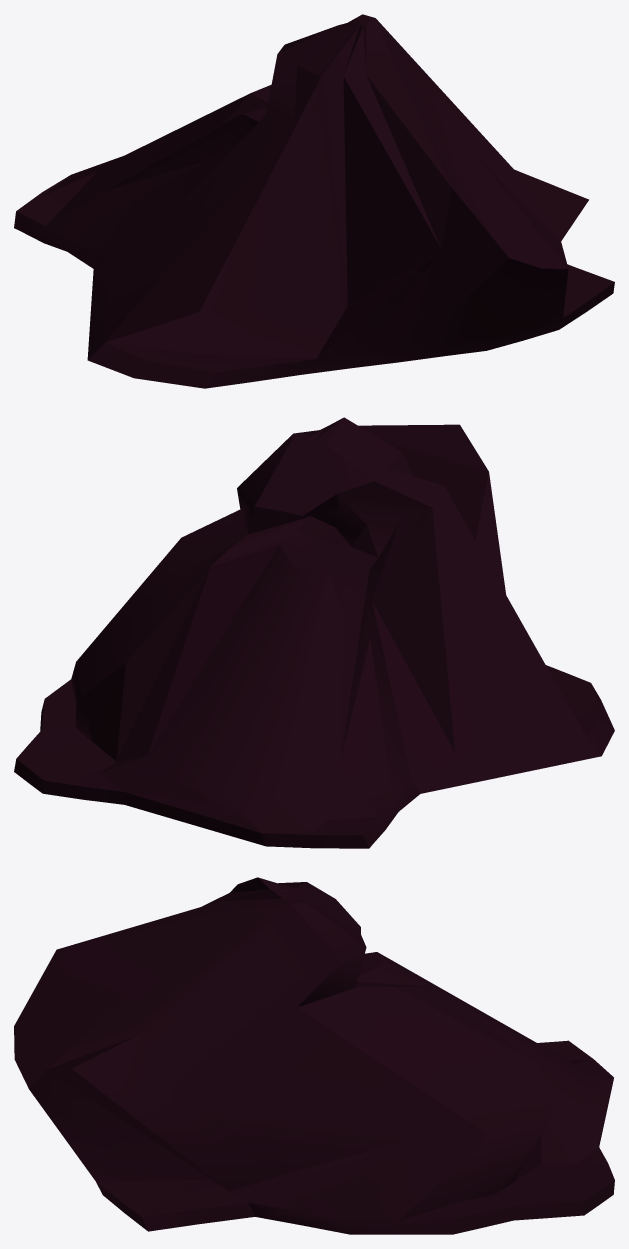
File: volcanorock3.fbx
3 views of the same model, one above another, from view 1: azimuth 30°, elevation 25°; view 2: azimuth 150°, elevation 25°; view 3: azimuth 270°, elevation 25° (orthographic). The views are drawn at different scales.
Visible parts, largest first — view 1: Plane.003; view 2: Plane.003; view 3: Plane.003.
Part boxes in pixels (bbox=[...]): Plane.003: bbox=[14, 14, 614, 388]; Plane.003: bbox=[14, 417, 614, 848]; Plane.003: bbox=[14, 877, 614, 1234].
Bounding box in the file's own units: 517 × 287 × 598.
